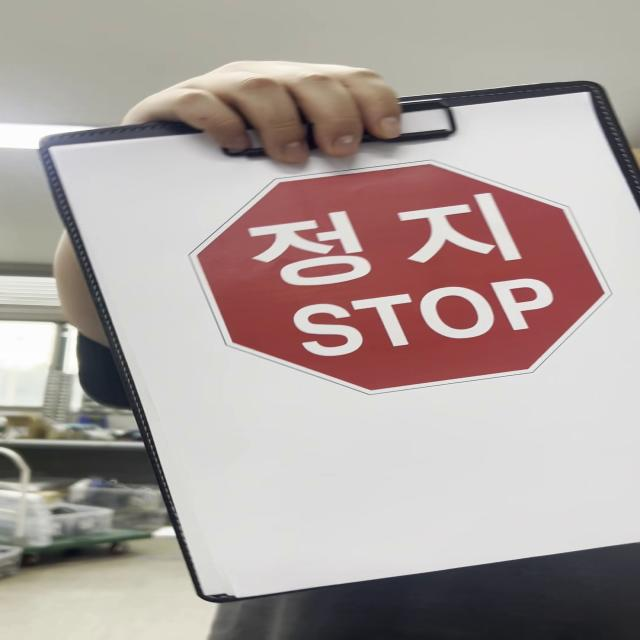stop: (189, 162, 610, 396)
